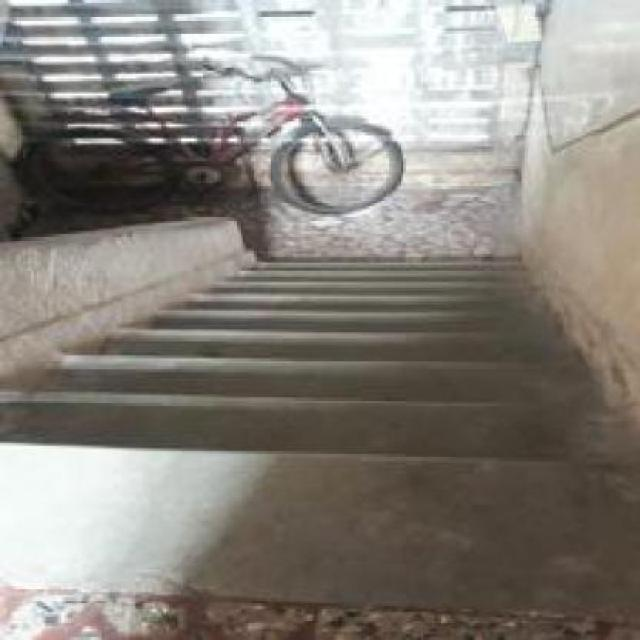stair: (85, 297, 488, 534)
